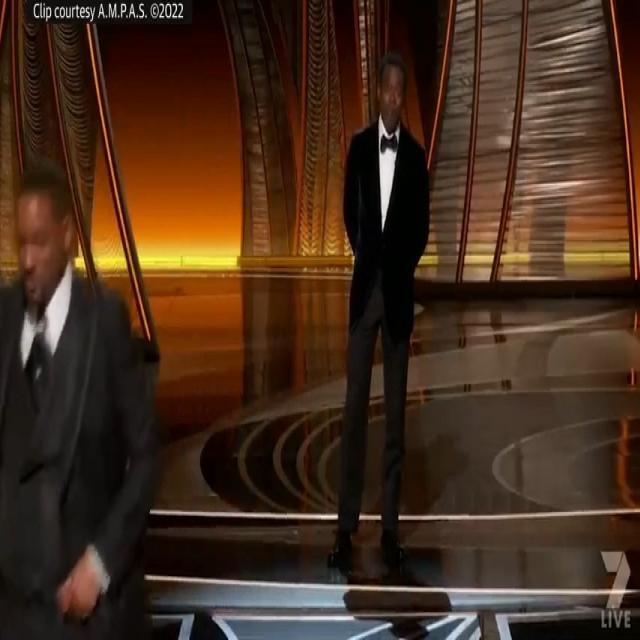non-fight: (0, 147, 161, 640), (326, 40, 434, 576)
